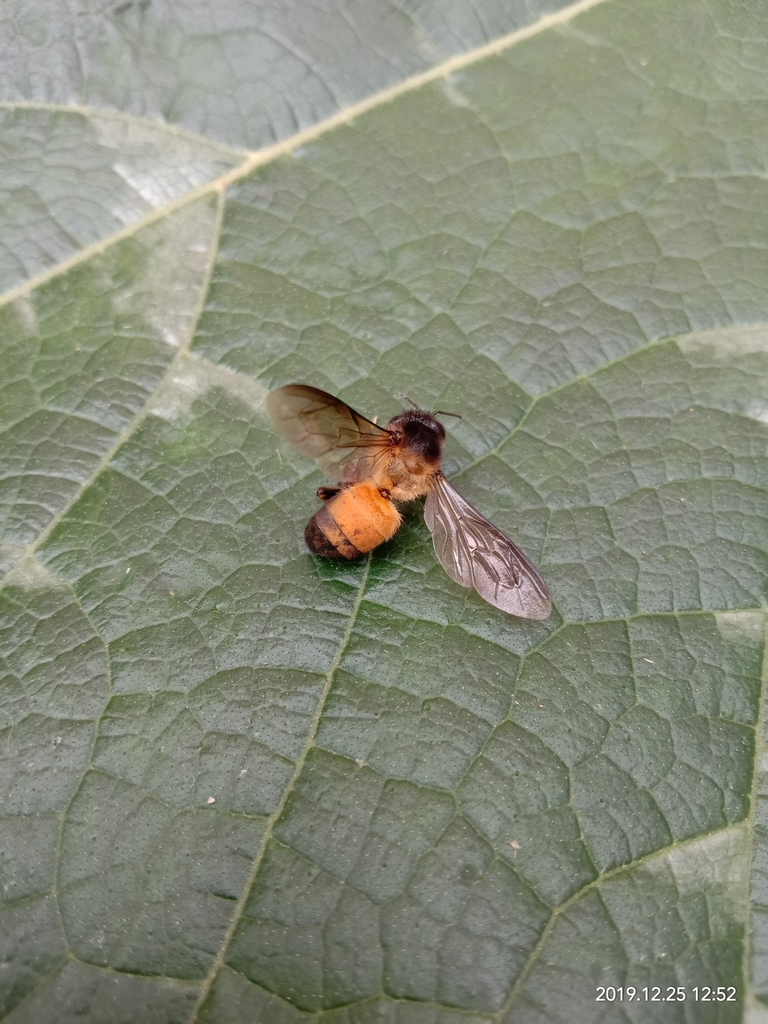not_bumblebee: (259, 380, 556, 623)
